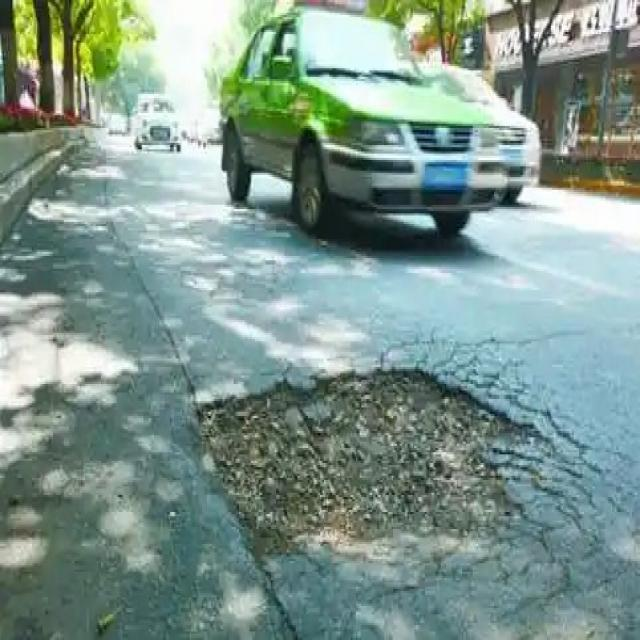Pothole: (192, 367, 554, 555)
